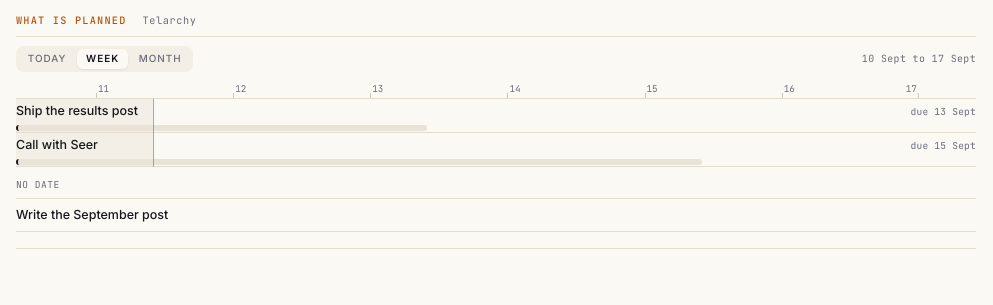
it: what is planned, in the data room › a row is a button that toggles the entry's own words under it
The image size is (993, 305).
Click the button "Call with Seer due 15 Sept". click: (57, 145)
box: [16, 133, 976, 166]
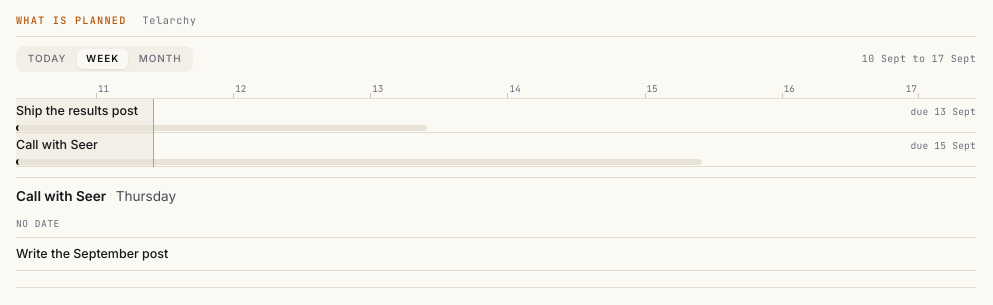
Check: the text "Thursday" is shown, box [112, 188, 176, 204]
Click the button "Call with Seer due 15 Sept". click: (57, 145)
box: [16, 133, 976, 166]
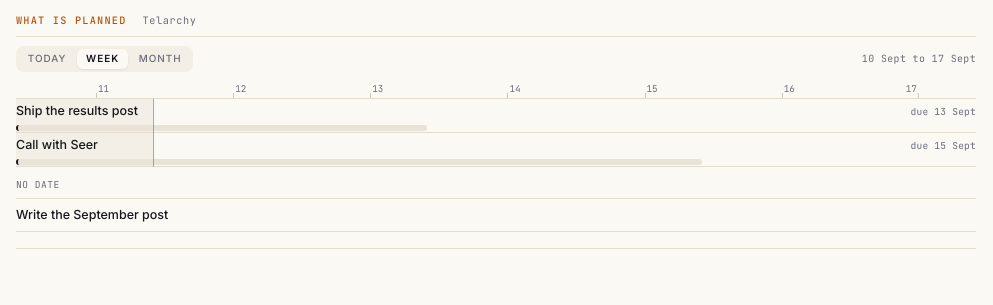
Check: the text "Thursday" is gone
